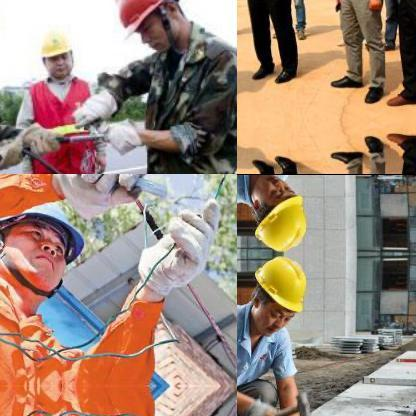Helmet: (0, 186, 90, 305), (242, 252, 315, 336), (242, 174, 317, 253), (104, 0, 192, 55), (30, 17, 76, 80)
